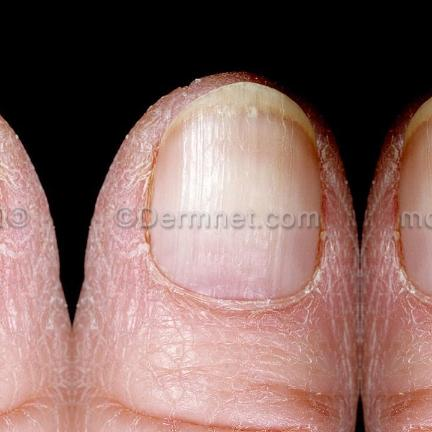Nail: (145, 83, 322, 300), (398, 94, 432, 296)
